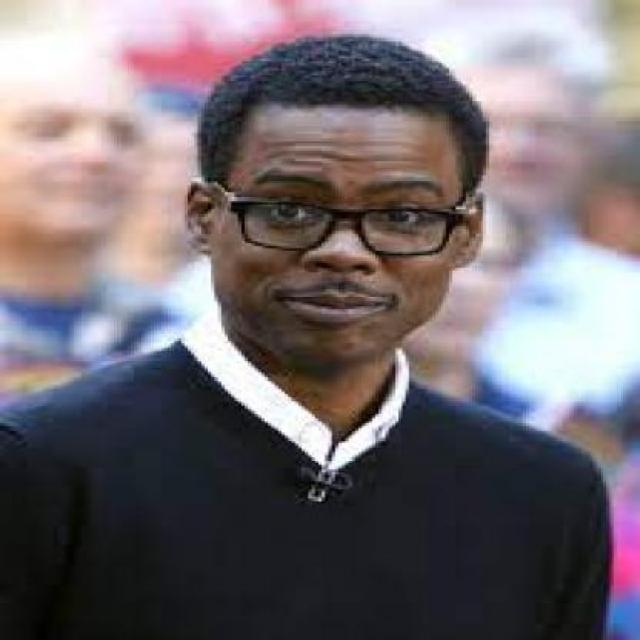glasses: (225, 190, 472, 265)
